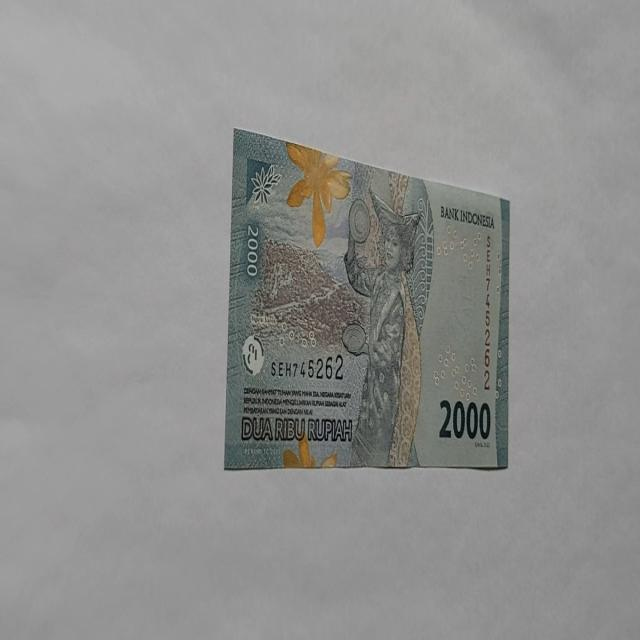dua ribu rupiah: (224, 128, 511, 471), (342, 185, 426, 468), (285, 140, 353, 248)
